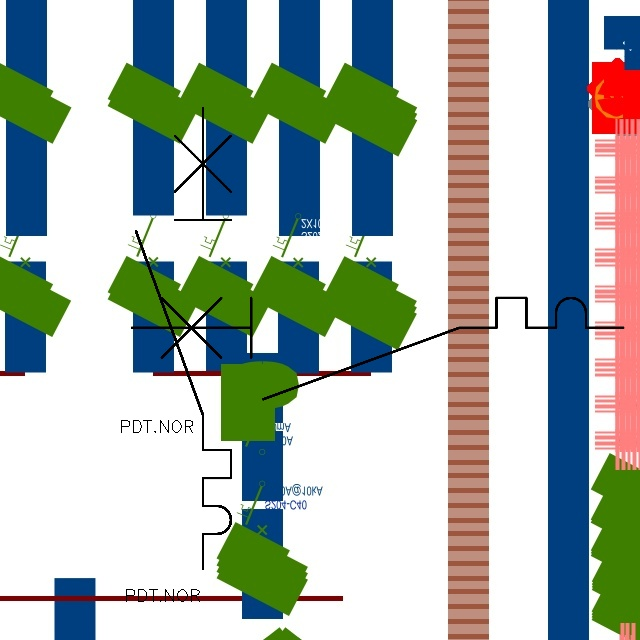interruptor_termomagnetico: (119, 285, 636, 411), (124, 96, 243, 581)
